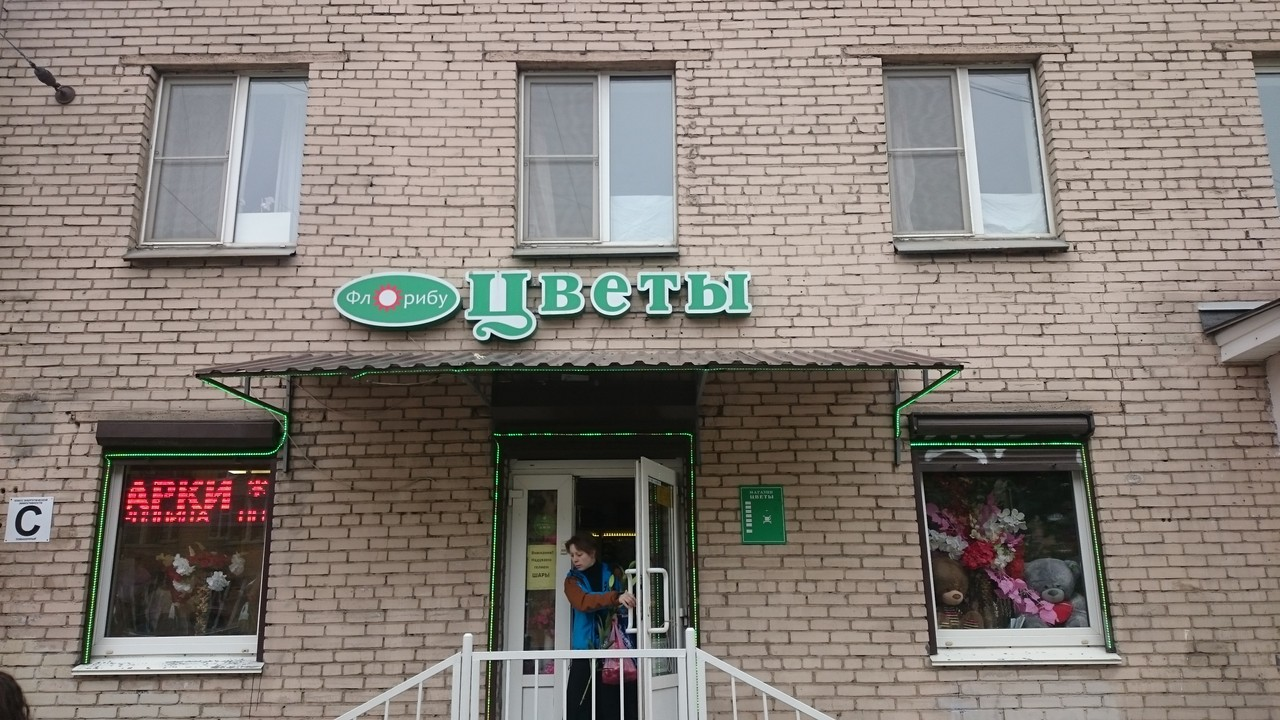door: (571, 472, 679, 720)
signboard: (334, 262, 755, 341)
window: (915, 454, 1113, 647), (95, 452, 262, 665), (884, 62, 1053, 237), (142, 67, 302, 248), (517, 67, 676, 243)
